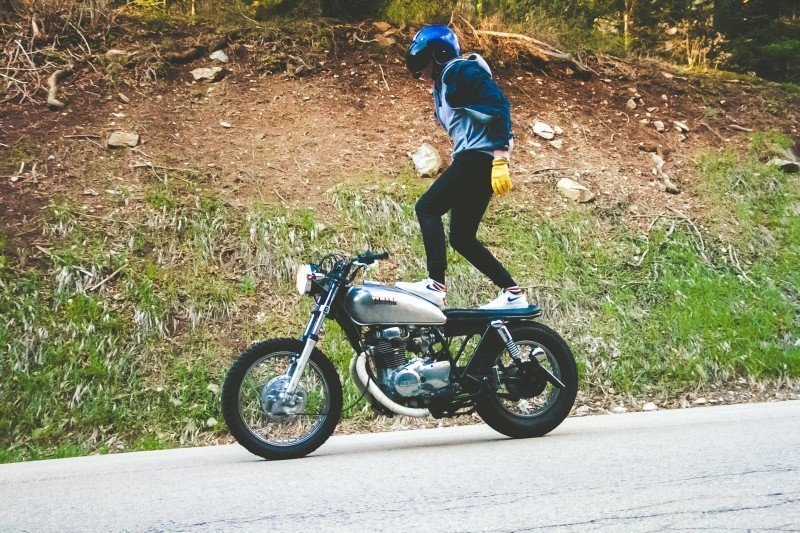helmet: (406, 26, 462, 68)
